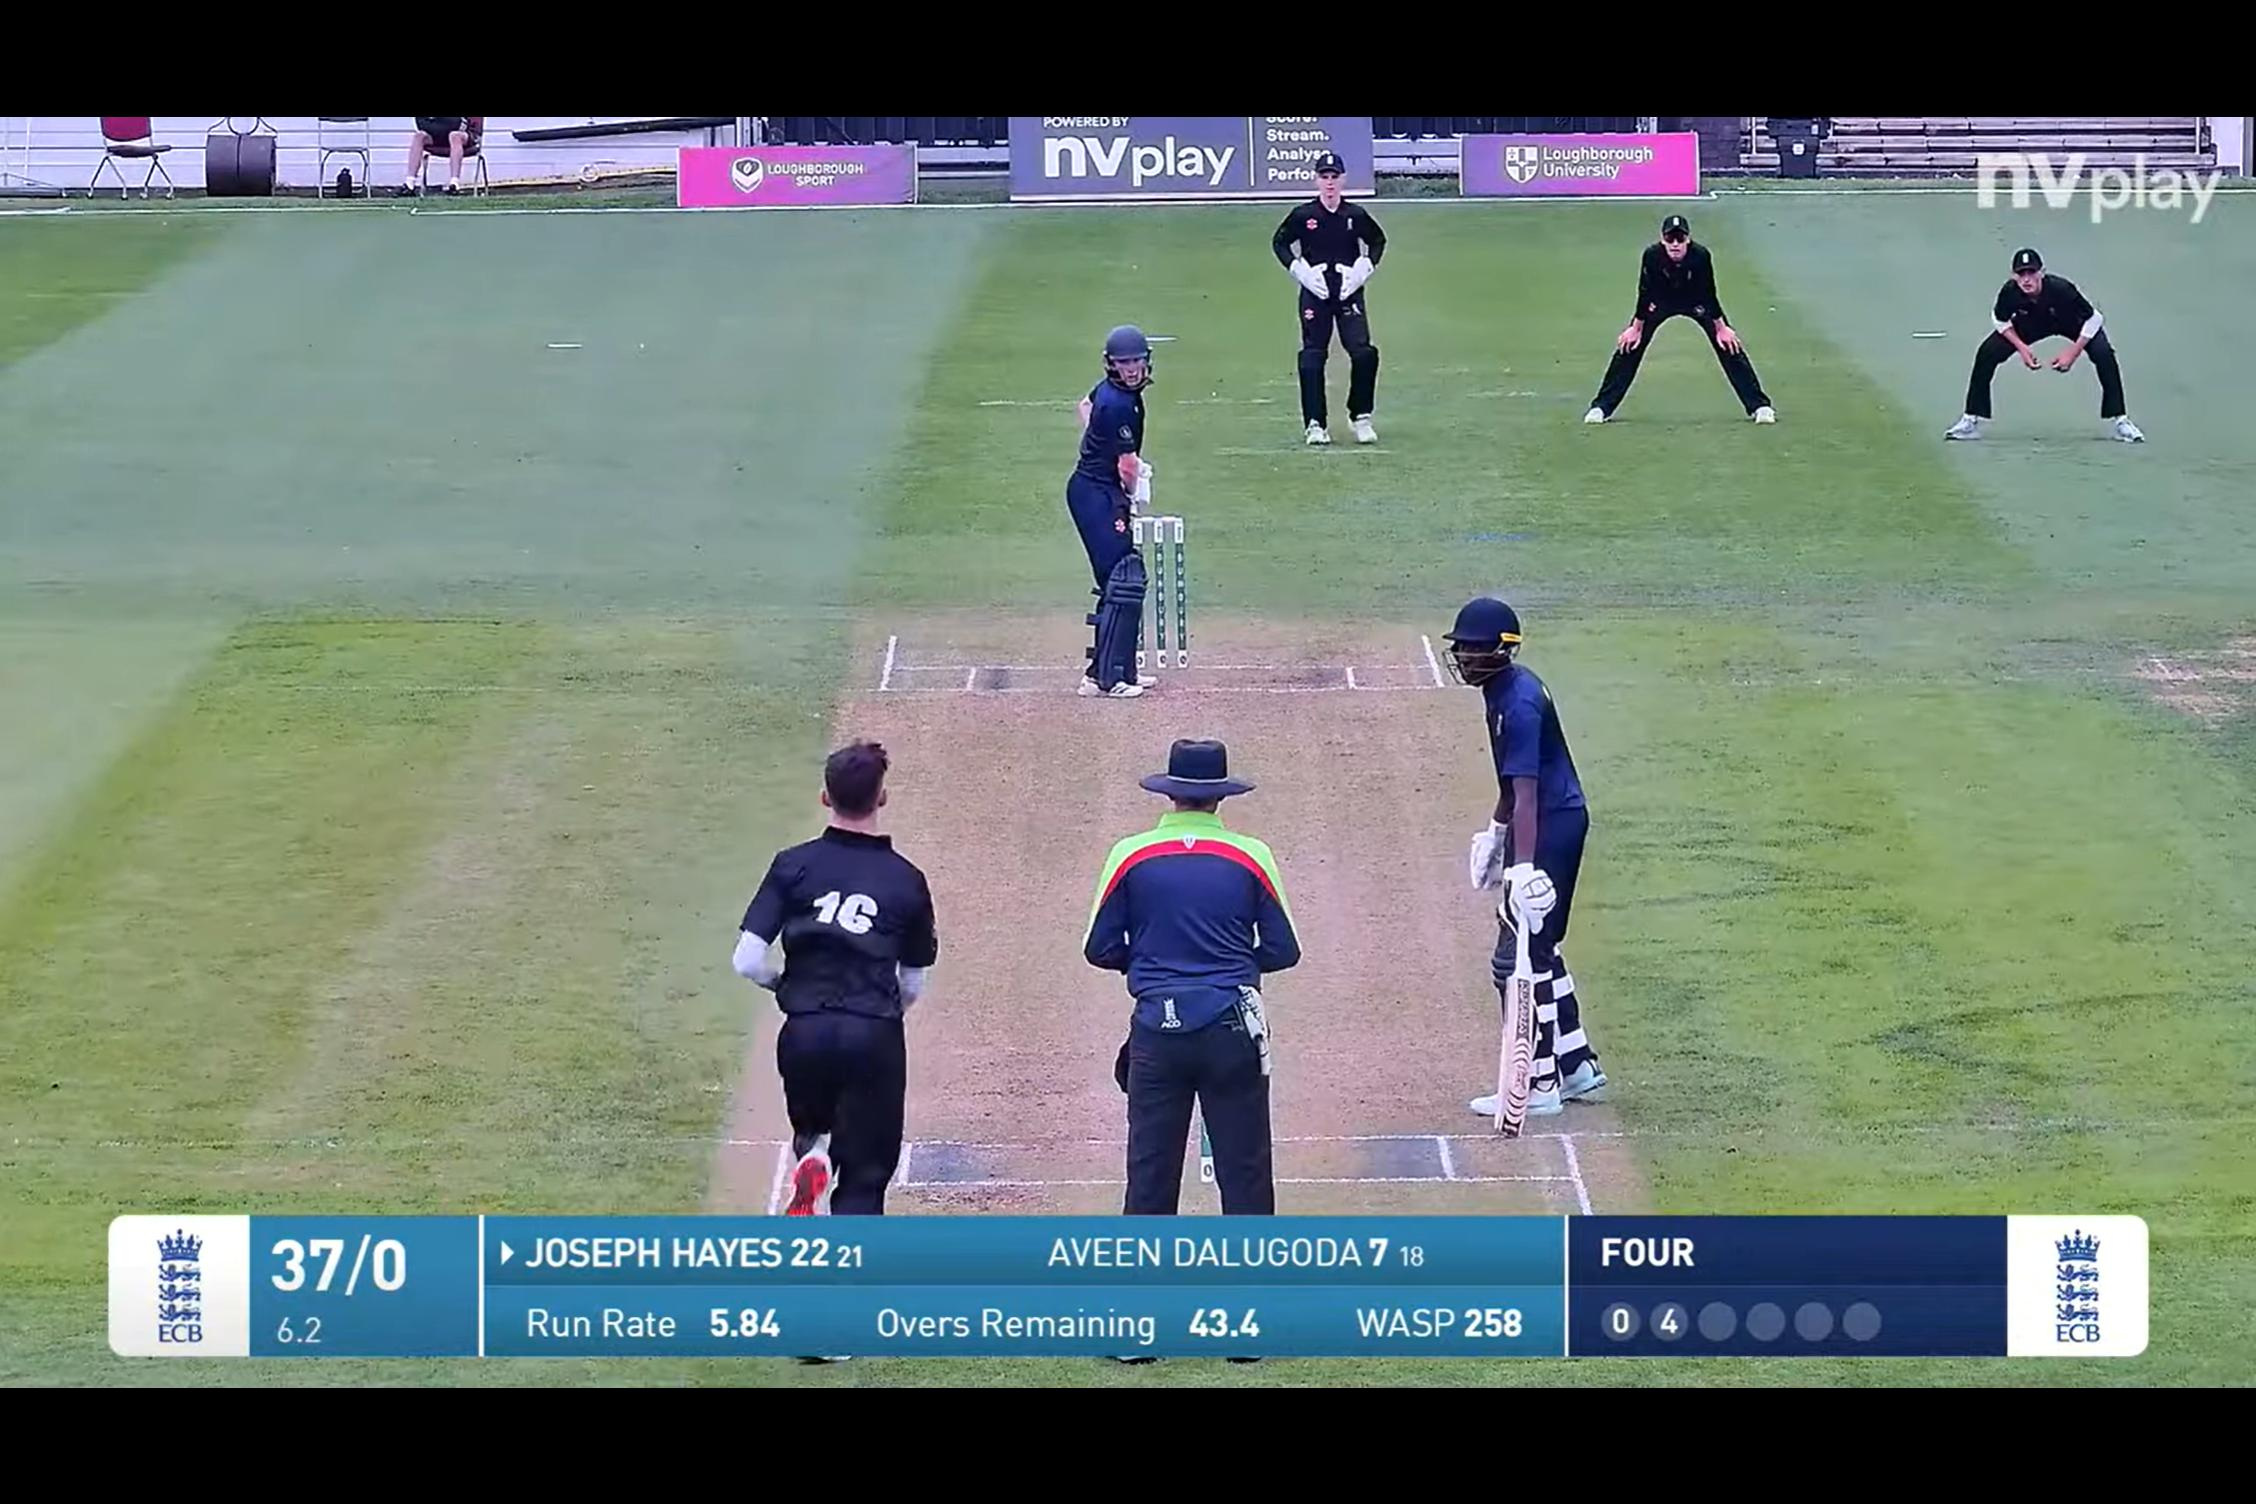batsman: (1039, 311, 1197, 702)
bowler running in: (697, 723, 990, 1209)
non striker: (1417, 581, 1648, 1158)
umpire: (1076, 754, 1339, 1204)
wicket keeper: (1256, 158, 1418, 453)
